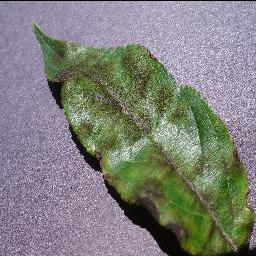apple healthy: (30, 19, 255, 255)
